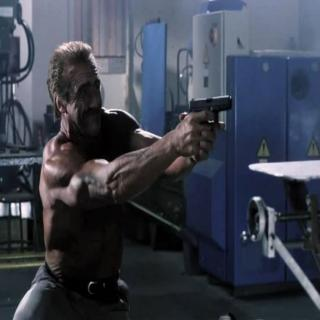gun: (175, 83, 237, 162)
